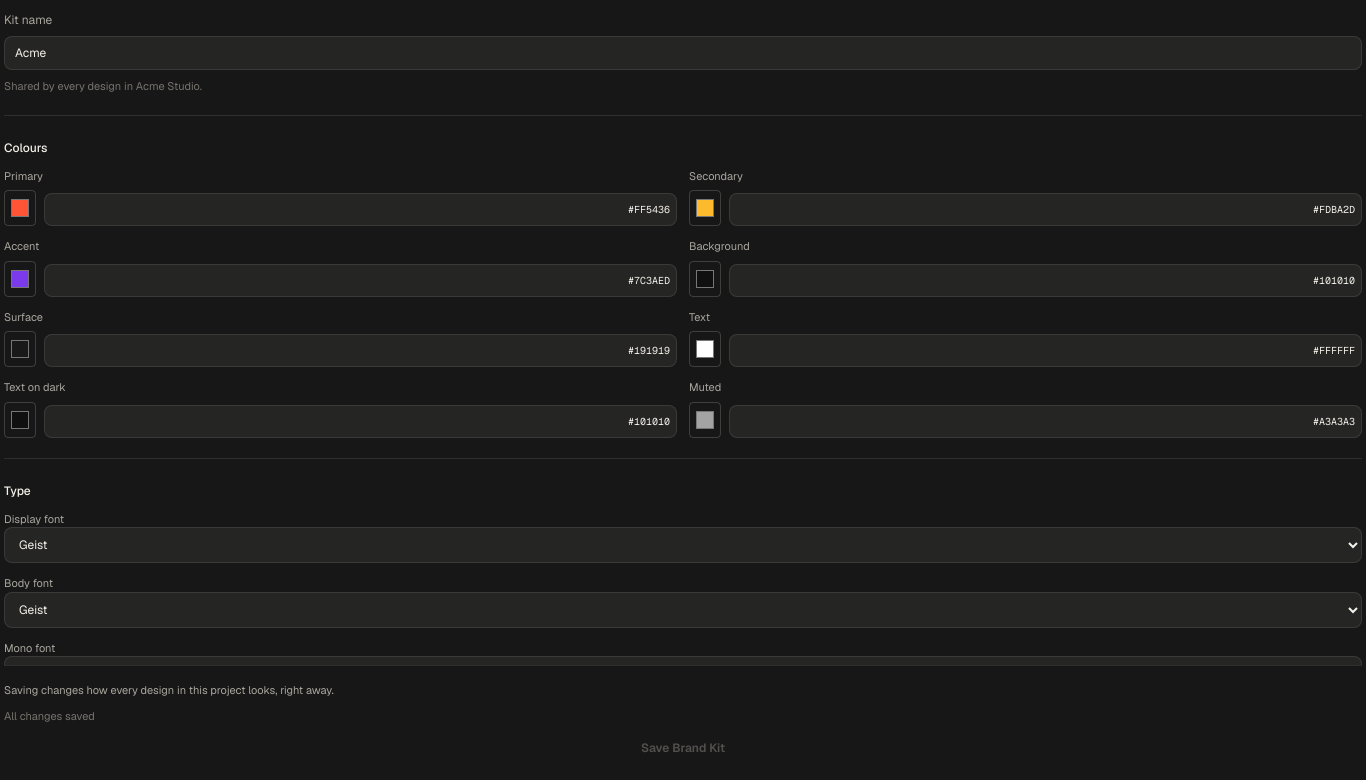
the brand panel › keeps Save disabled and quiet until a value changes
Expected: the button "Save Brand Kit" is disabled, [4, 732, 1362, 764]
Expected: the text "Saving changes how every design in this project looks, right away." is shown, [4, 683, 334, 697]
Step 1. Replace the text in the field showing "Acme" with "Acme Ltd" → (683, 53), box [4, 36, 1362, 70]
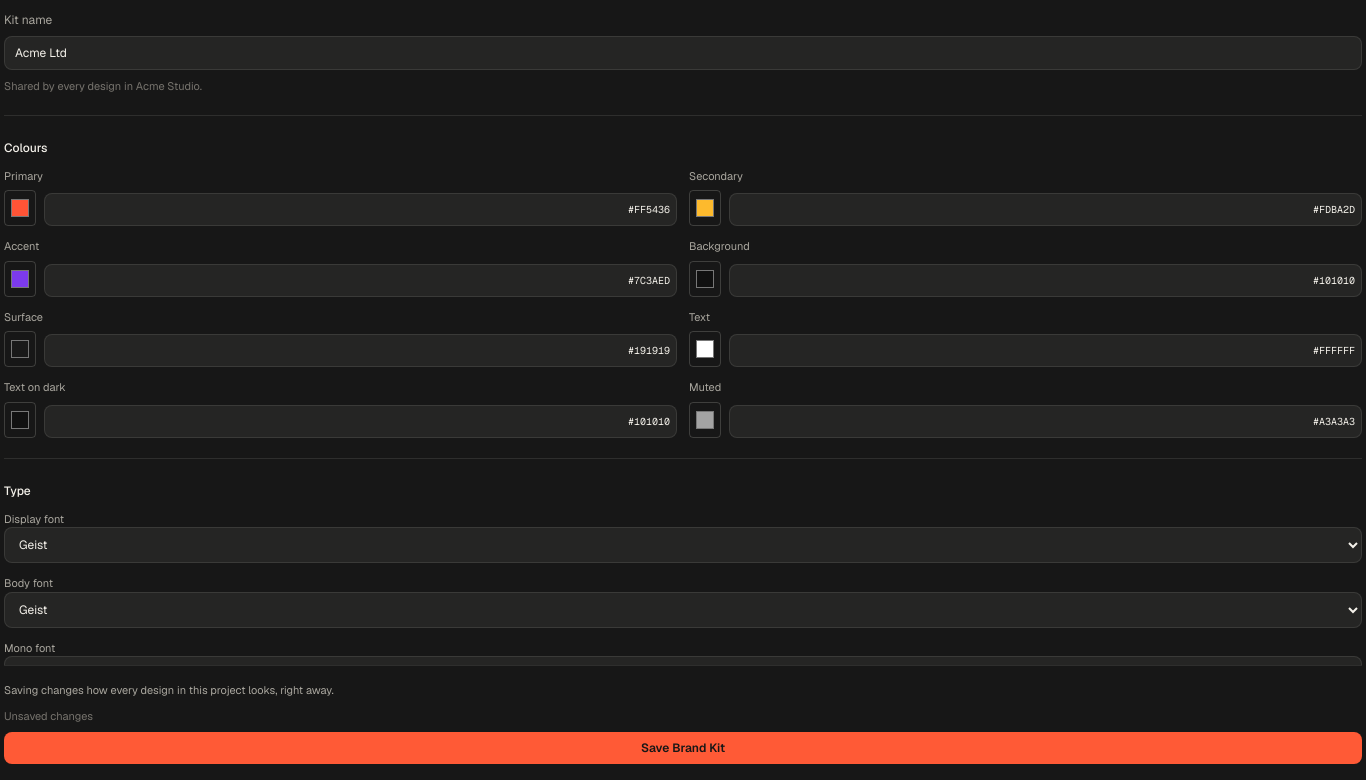
Expected: the button "Save Brand Kit" is enabled, [4, 732, 1362, 764]
